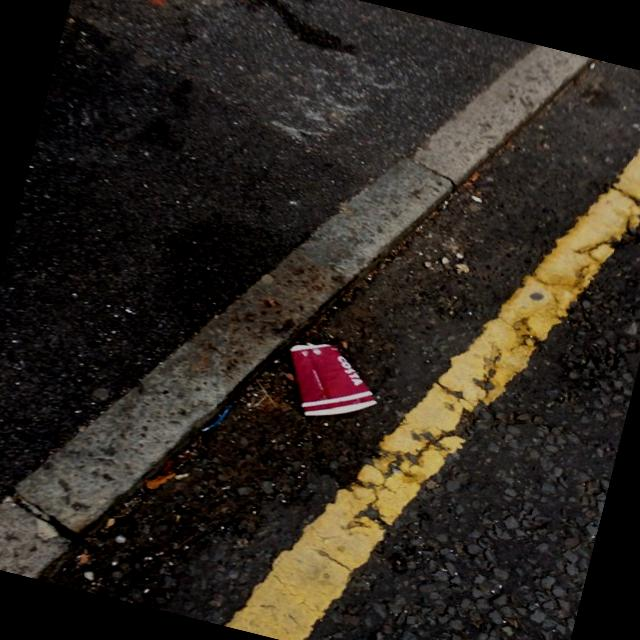Trash: (271, 332, 390, 436)
